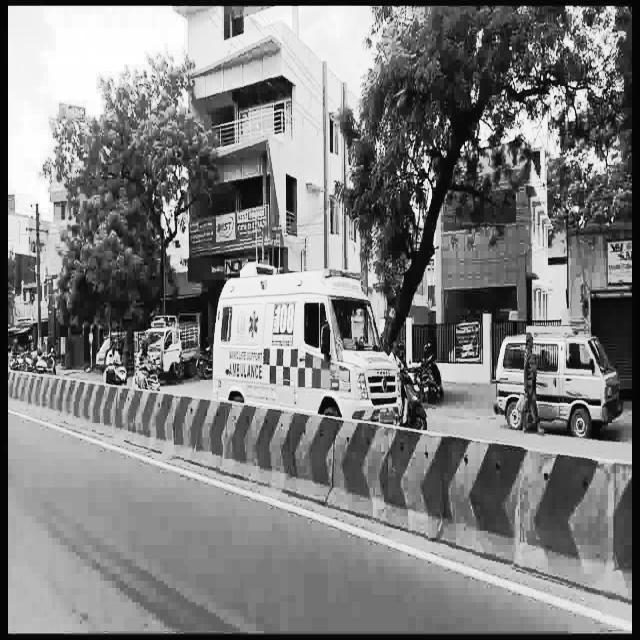Ambulance: (214, 264, 403, 432)
